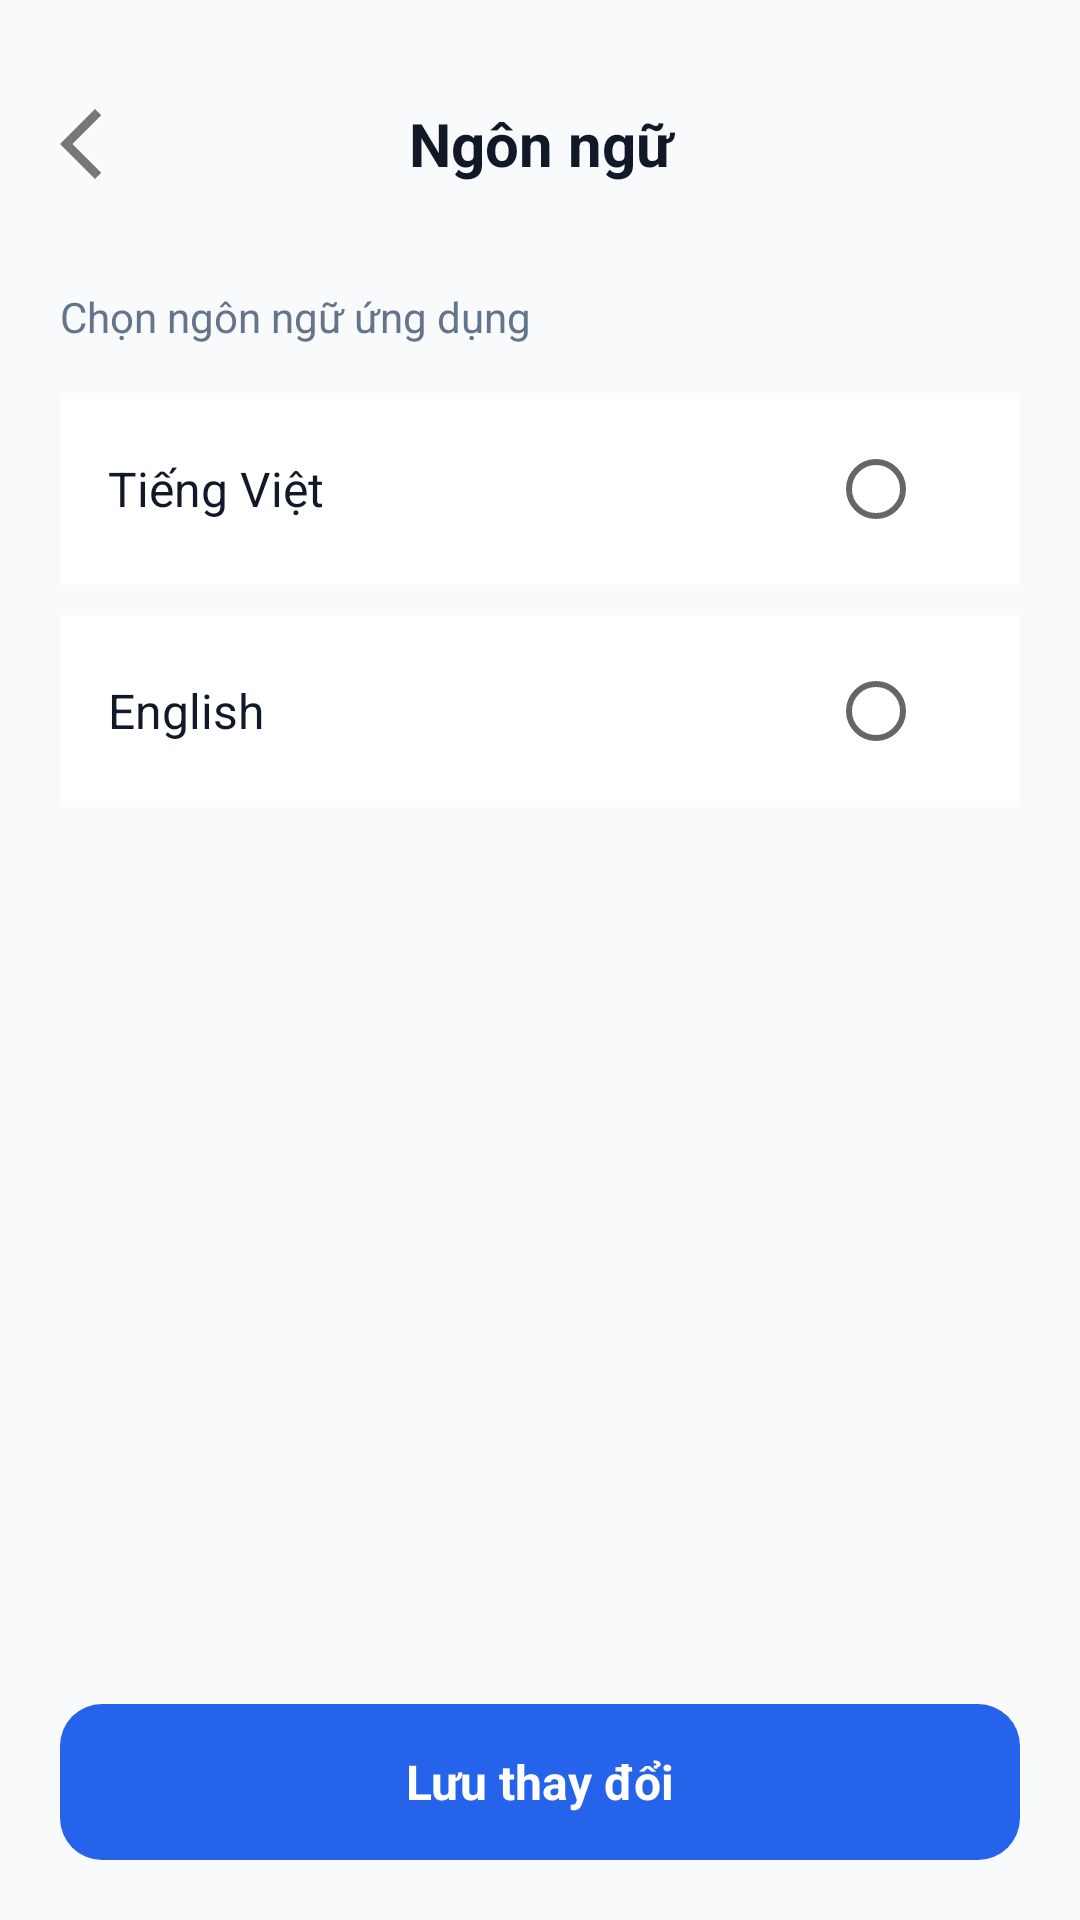

Where to tap for icons on this 1080 × 1920 app screen, as [x,y]:
Quay lại: [80,144]
